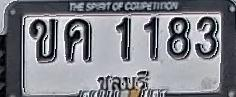1: (116, 17, 131, 61), (143, 16, 158, 60)
3: (196, 16, 218, 59)
8: (167, 16, 190, 60)
A02: (30, 18, 58, 62)
A04: (64, 18, 92, 62)
CBI: (94, 69, 153, 91)
